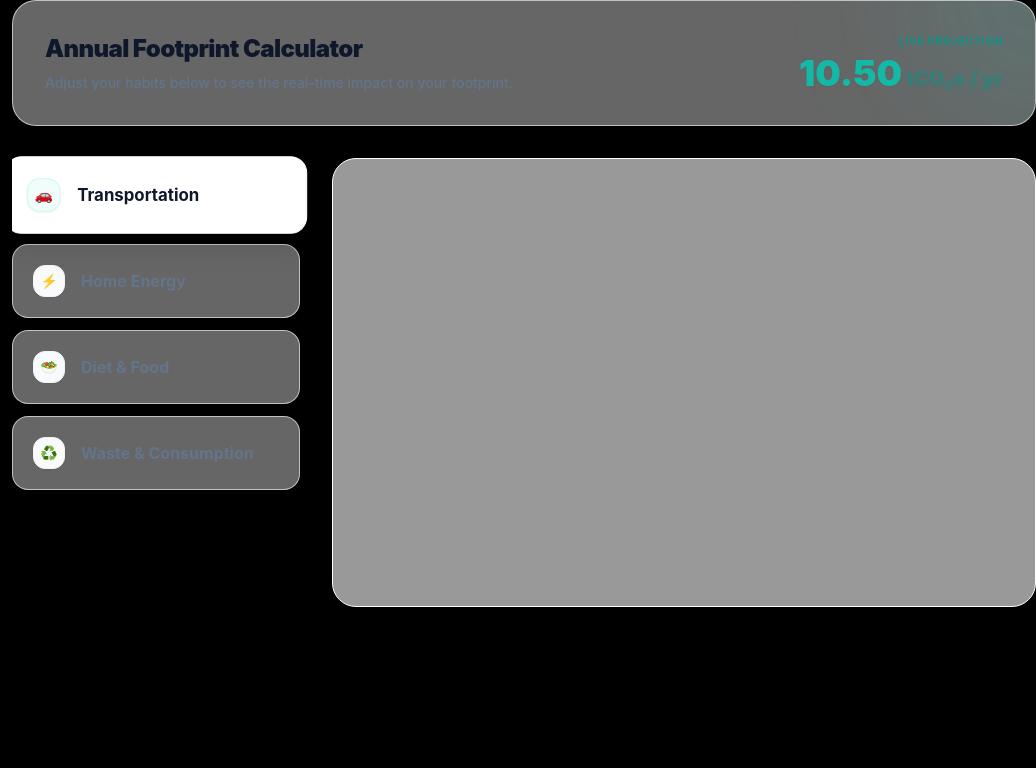
Test: FootprintCalculatorView Component › allows clicking tabs to switch views
Switch to Home Energy tab
Click the text "Home Energy".
click(133, 281)  # box [81,269,186,293]
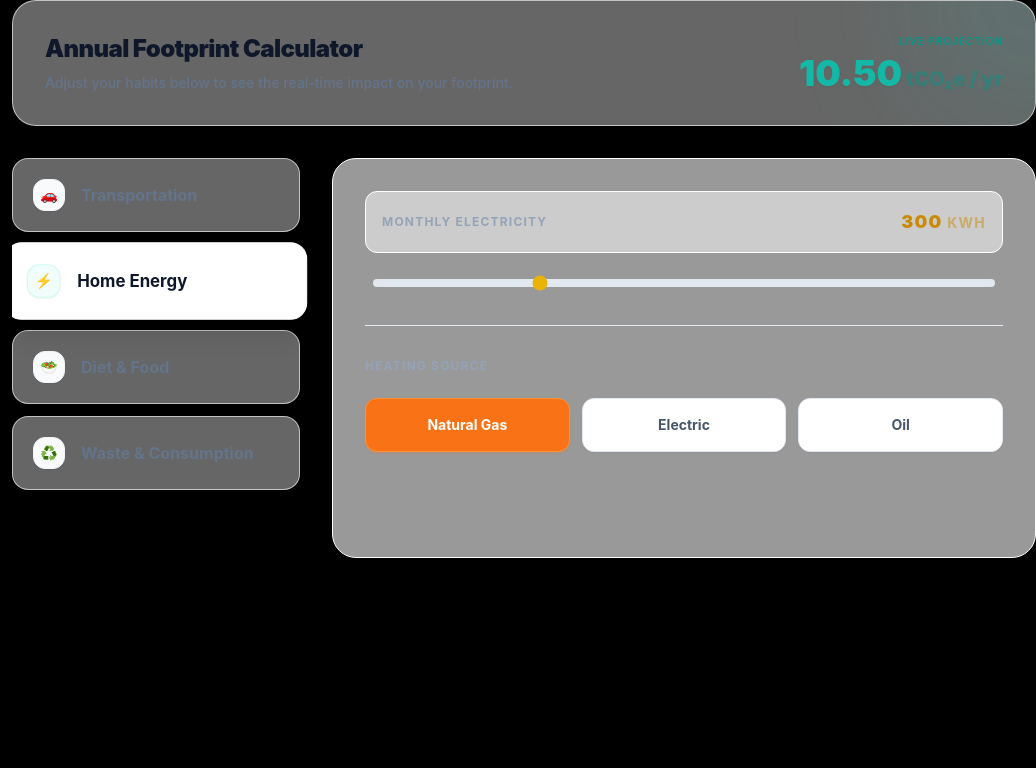
Check: the text "Monthly Electricity" is shown, box [382,214,547,230]
